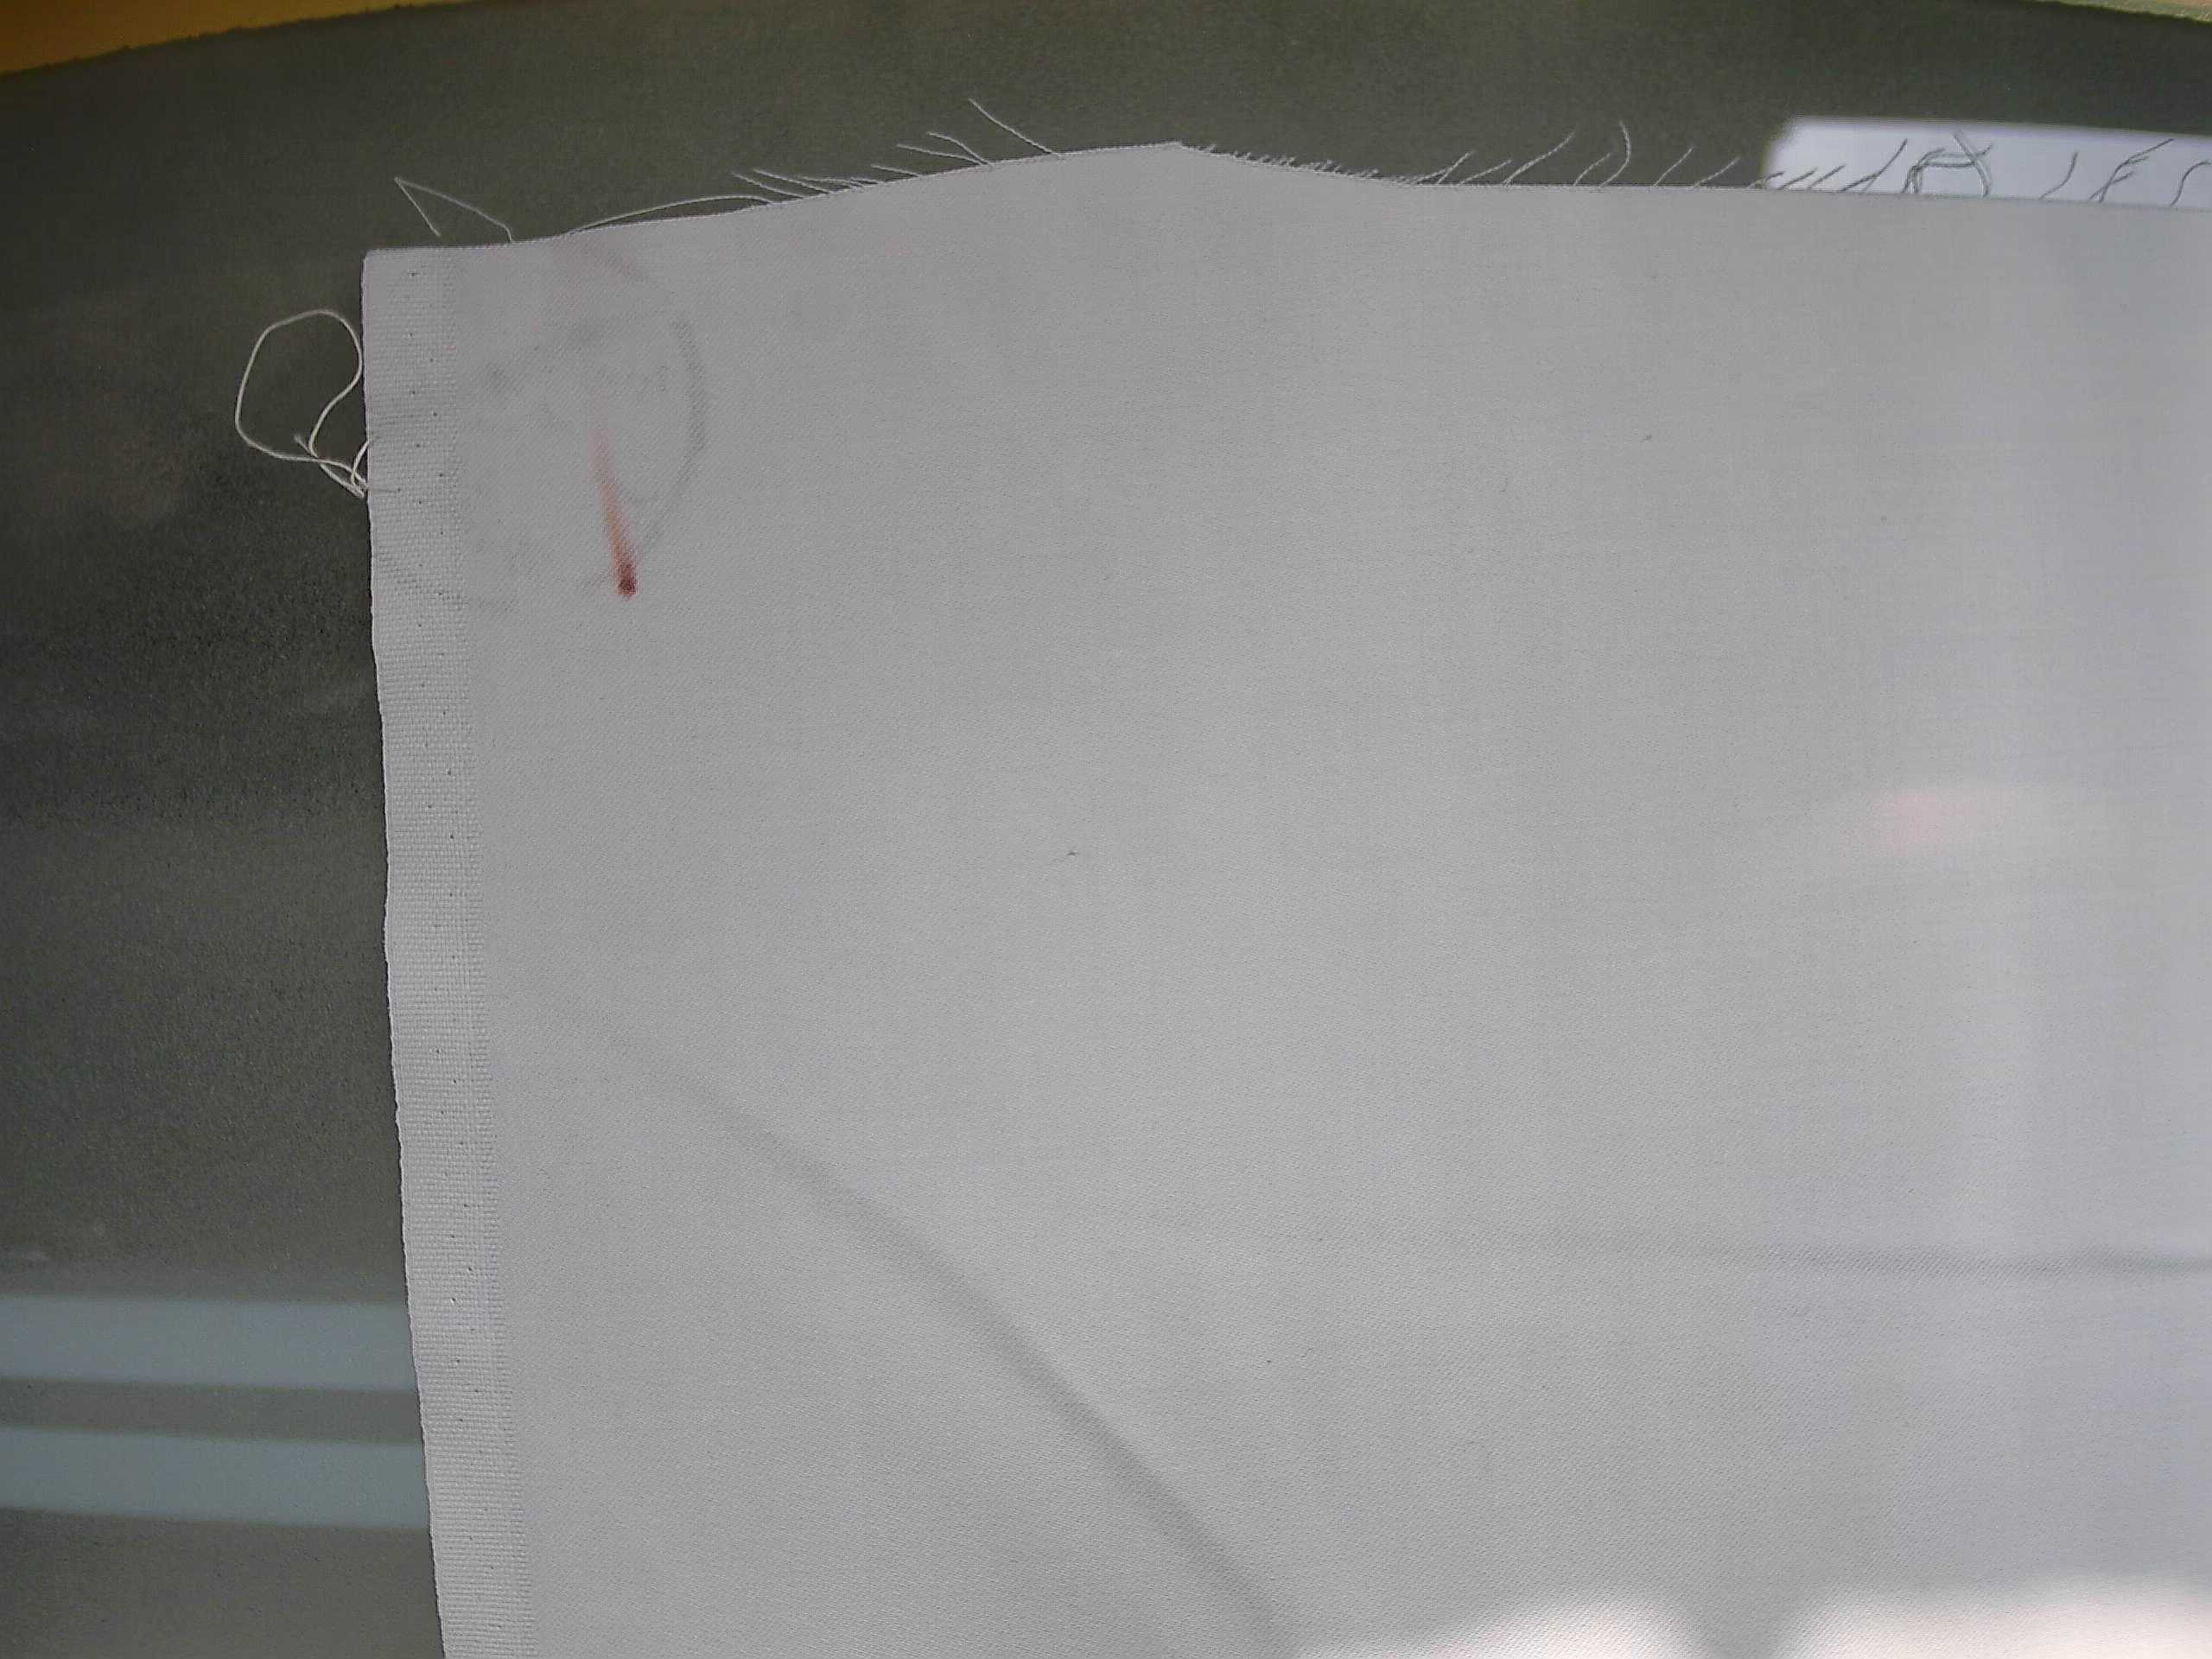others: (557, 425, 664, 619)
